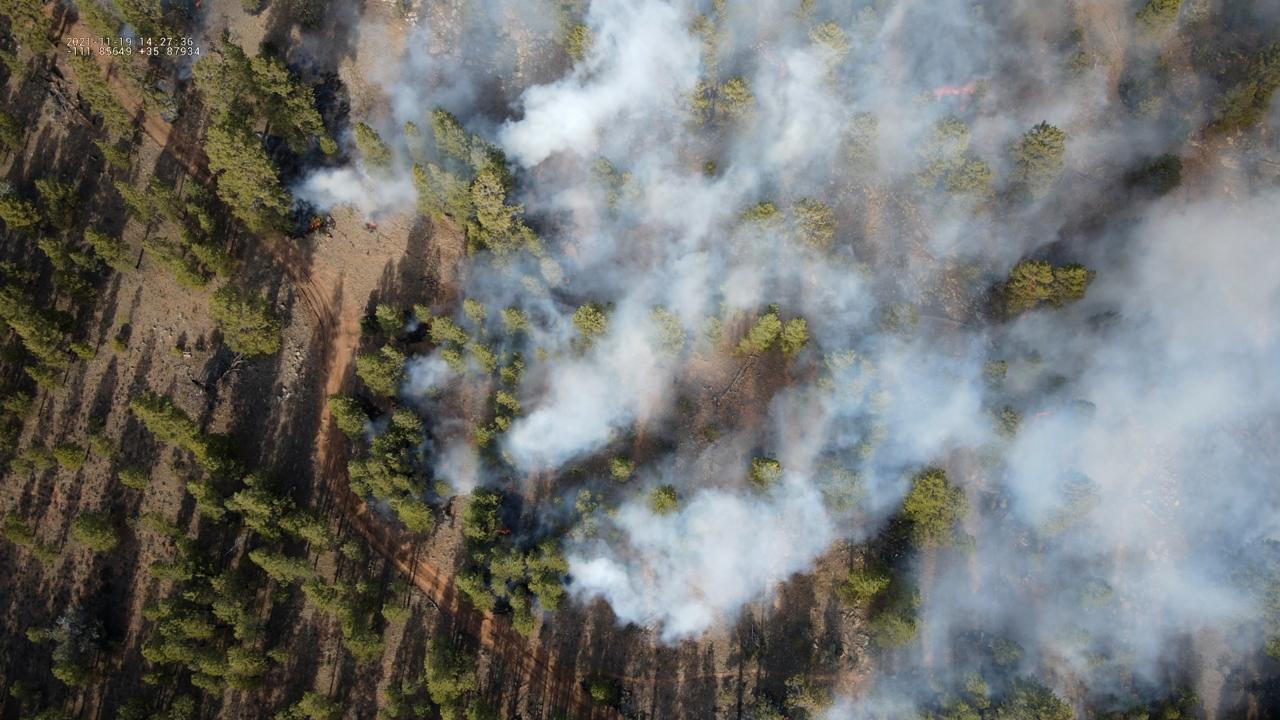fire: (936, 84, 976, 102), (311, 216, 323, 230), (1034, 412, 1049, 418), (195, 0, 204, 10), (500, 528, 512, 534), (959, 104, 967, 113), (368, 221, 376, 229), (564, 277, 572, 285)
smoke: (287, 0, 1280, 720), (174, 0, 215, 92), (117, 22, 137, 42)
